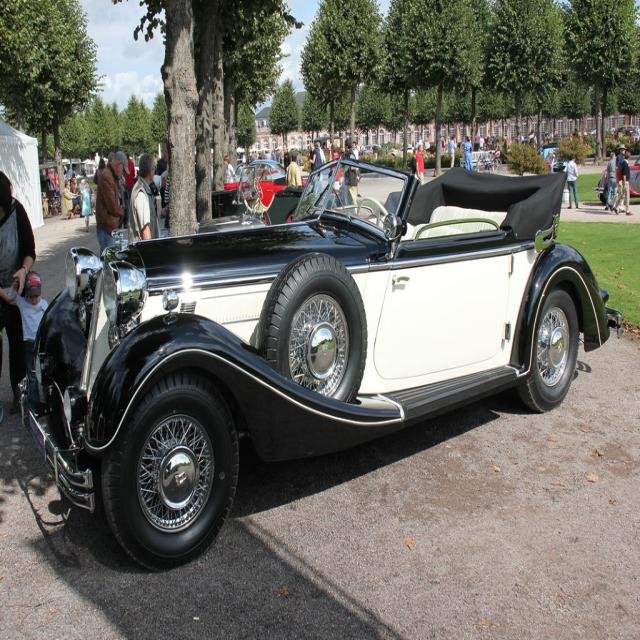car: (37, 151, 597, 537)
